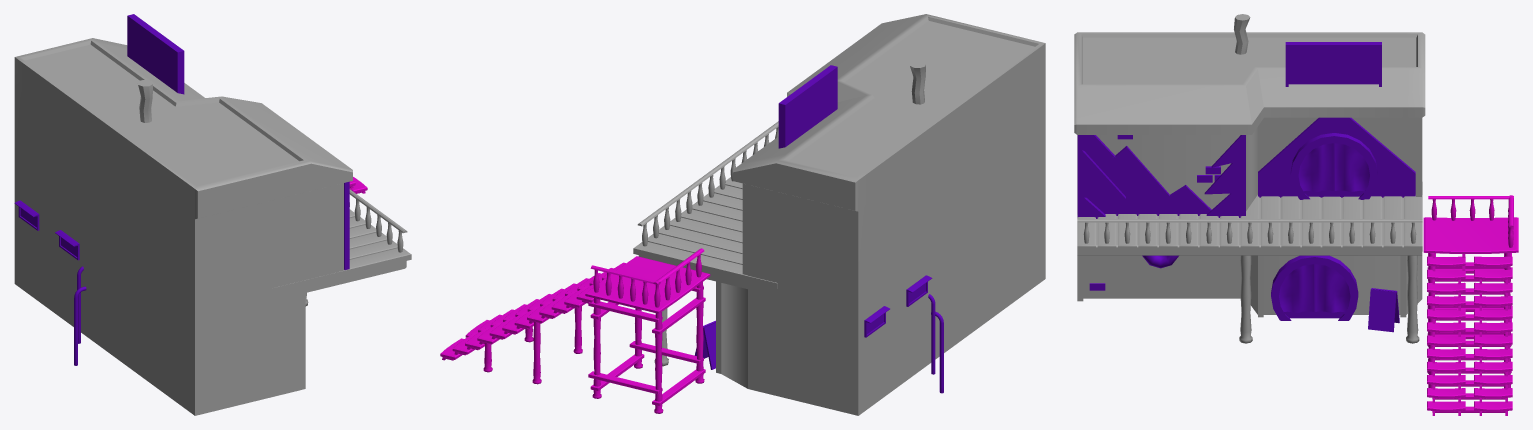
File: SectionC.fbx
3 renders of one model, left to right at view 1: azimuth 30°, elevation 25°; view 2: azimuth 150°, elevation 25°; view 3: azimuth 270°, elevation 25°, orthographic. The views are drawn at different scales.
Parts seen in each view (by area): view 1: MASTERBUILDING2, ShopsC; view 2: MASTERBUILDING2, StairCase, ShopsC; view 3: MASTERBUILDING2, ShopsC, StairCase.
Boxes of the visible parts, x1,y1,x2,y2 form: MASTERBUILDING2: [14, 38, 411, 415]; ShopsC: [14, 14, 349, 365]; MASTERBUILDING2: [633, 14, 1045, 415]; StairCase: [440, 248, 710, 413]; ShopsC: [694, 65, 943, 393]; MASTERBUILDING2: [1074, 14, 1425, 343]; ShopsC: [1077, 42, 1415, 332]; StairCase: [1423, 195, 1518, 415].
Size of the model in its own units: 55.57 by 41.62 by 60.7.
